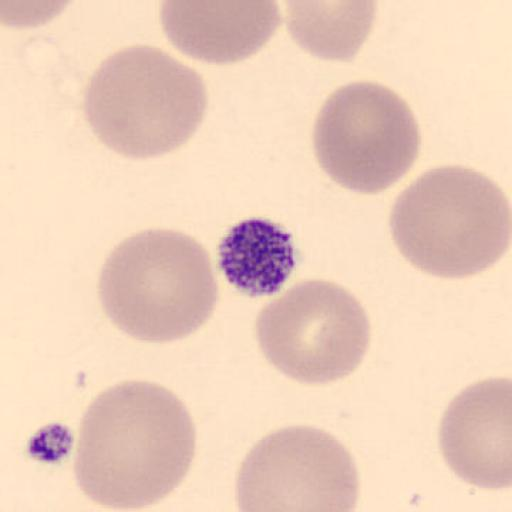Platelet: (215, 214, 301, 300), (24, 417, 78, 467)
RBC: (71, 376, 198, 512), (81, 42, 209, 162), (388, 162, 512, 282), (96, 226, 220, 345), (252, 277, 374, 387), (310, 79, 422, 196), (233, 423, 363, 512), (438, 374, 512, 492), (158, 0, 284, 68), (280, 0, 379, 63), (2, 0, 80, 31)
